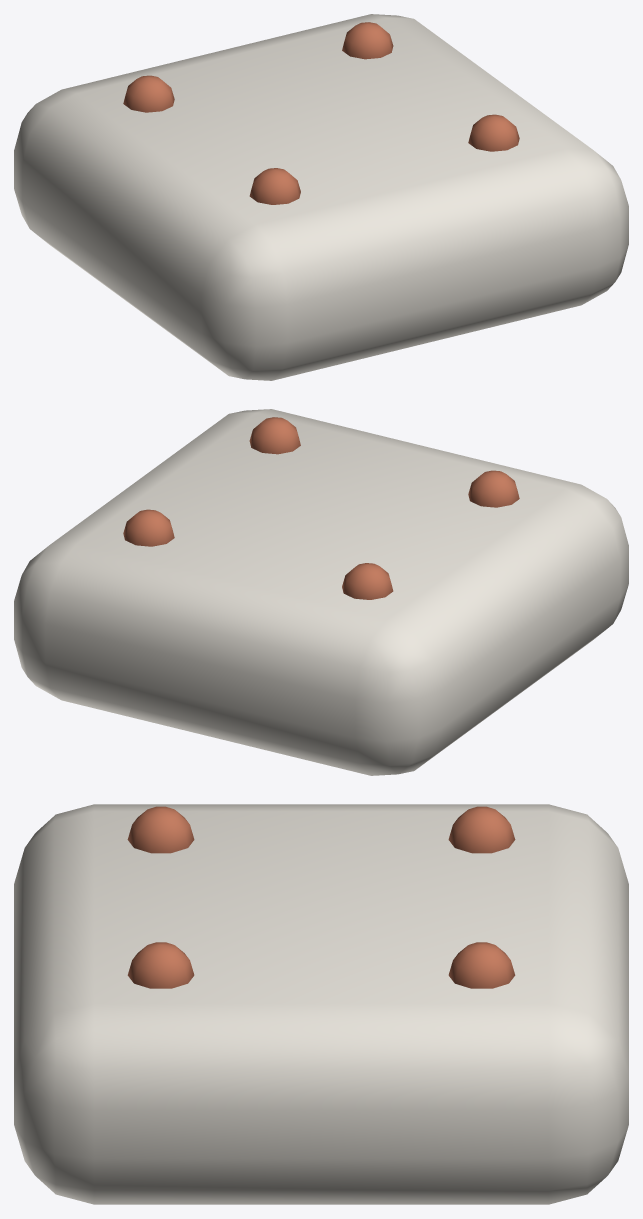
File: vintage_cushion_02.glb
3 views of the same model, one above another, from view 1: azimuth 30°, elevation 25°; view 2: azimuth 150°, elevation 25°; view 3: azimuth 270°, elevation 25° (orthographic). The views are drawn at different scales.
Visible parts, largest first — view 1: vintage_cushion_02; view 2: vintage_cushion_02; view 3: vintage_cushion_02.
Part boxes in pixels (<box>): vintage_cushion_02: <box>14,14,628,380</box>; vintage_cushion_02: <box>14,409,628,775</box>; vintage_cushion_02: <box>14,804,628,1204</box>.
Size of the model in its own units: 0.46 by 0.185 by 0.46.
